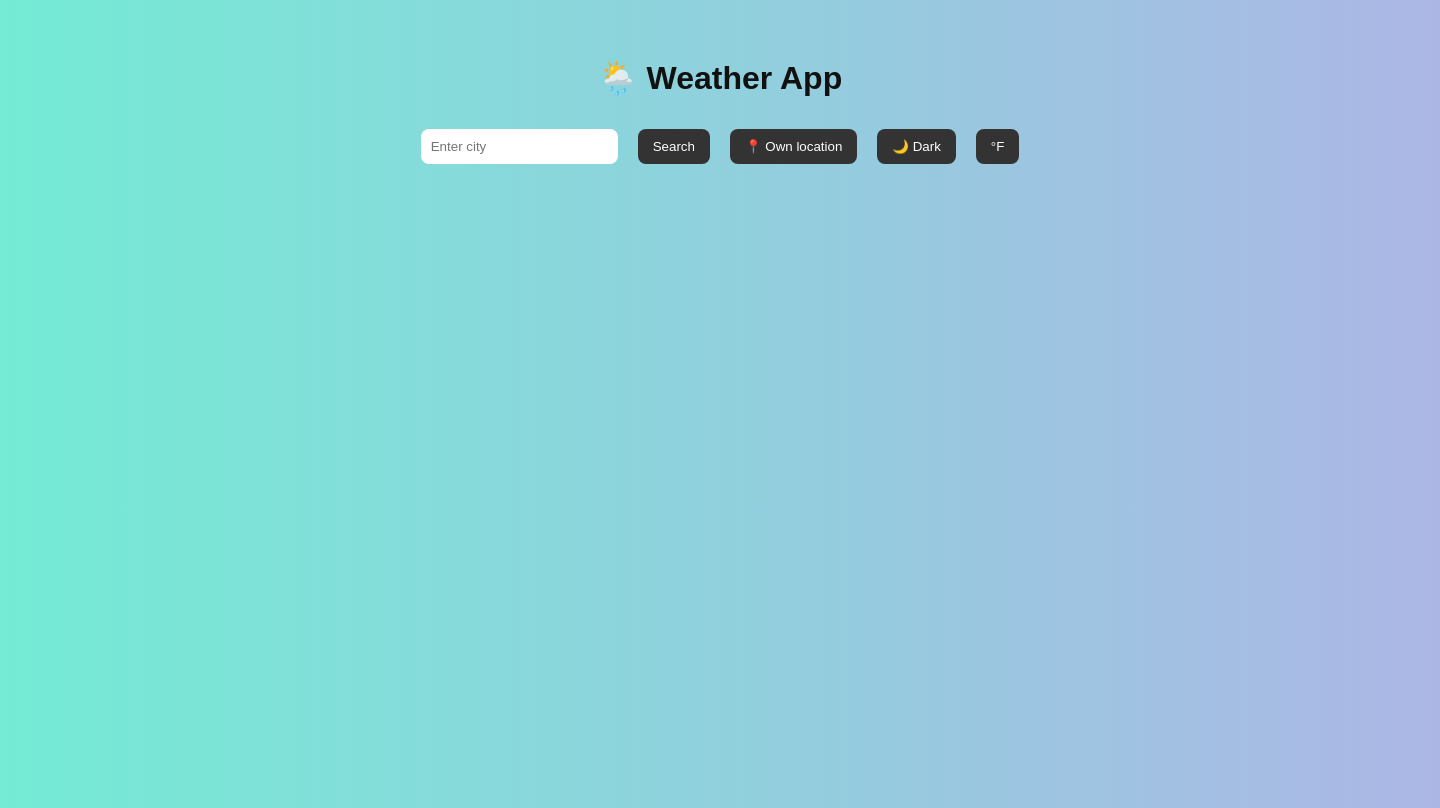
Test: Weather › toggles between Celsius and Fahrenheit without an extra fetch
Type "Helsinki" into the field with placeholder "Enter city" at [519, 146], box 421,129 -> 618,164
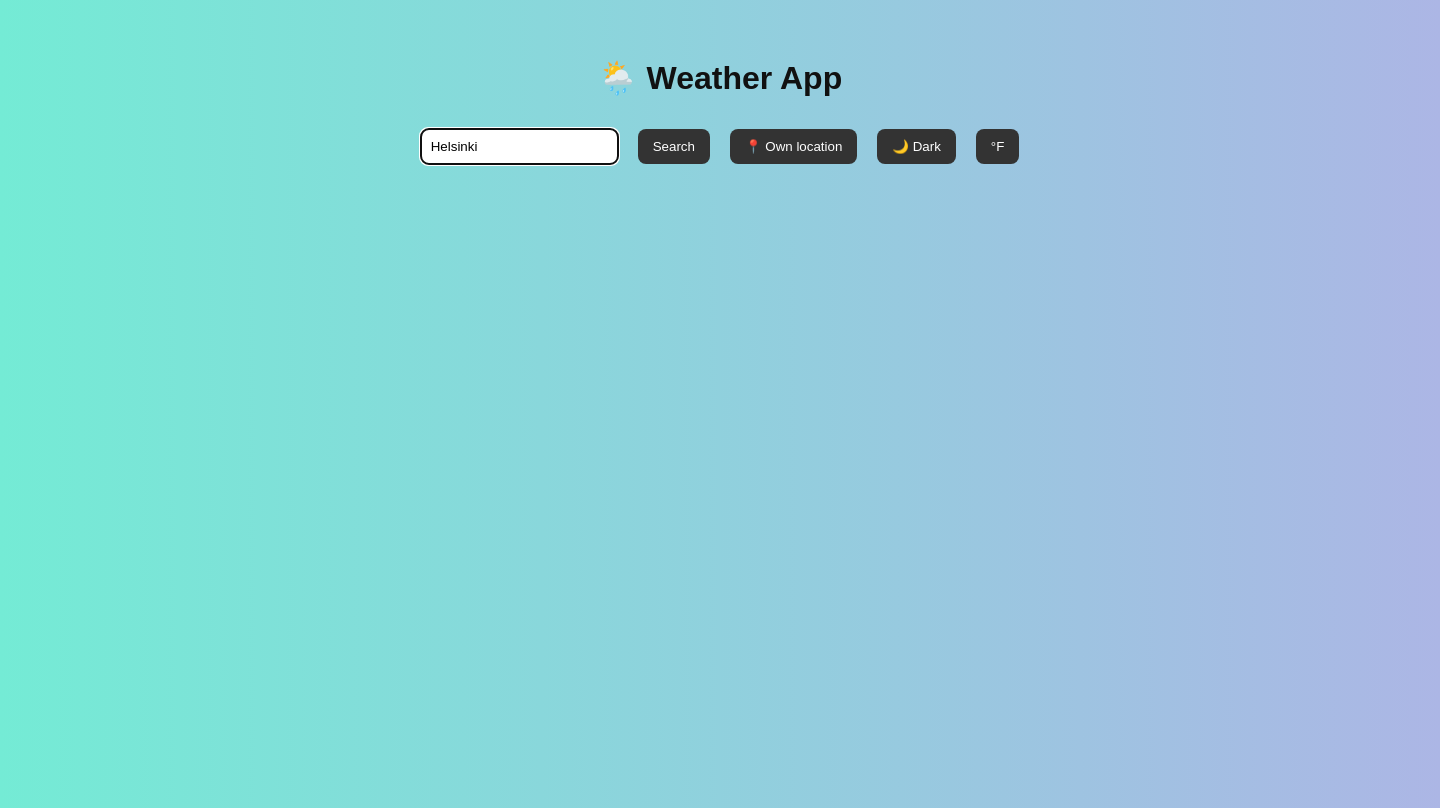
Click the button "Search" at [674, 146], box 638,129 -> 710,164
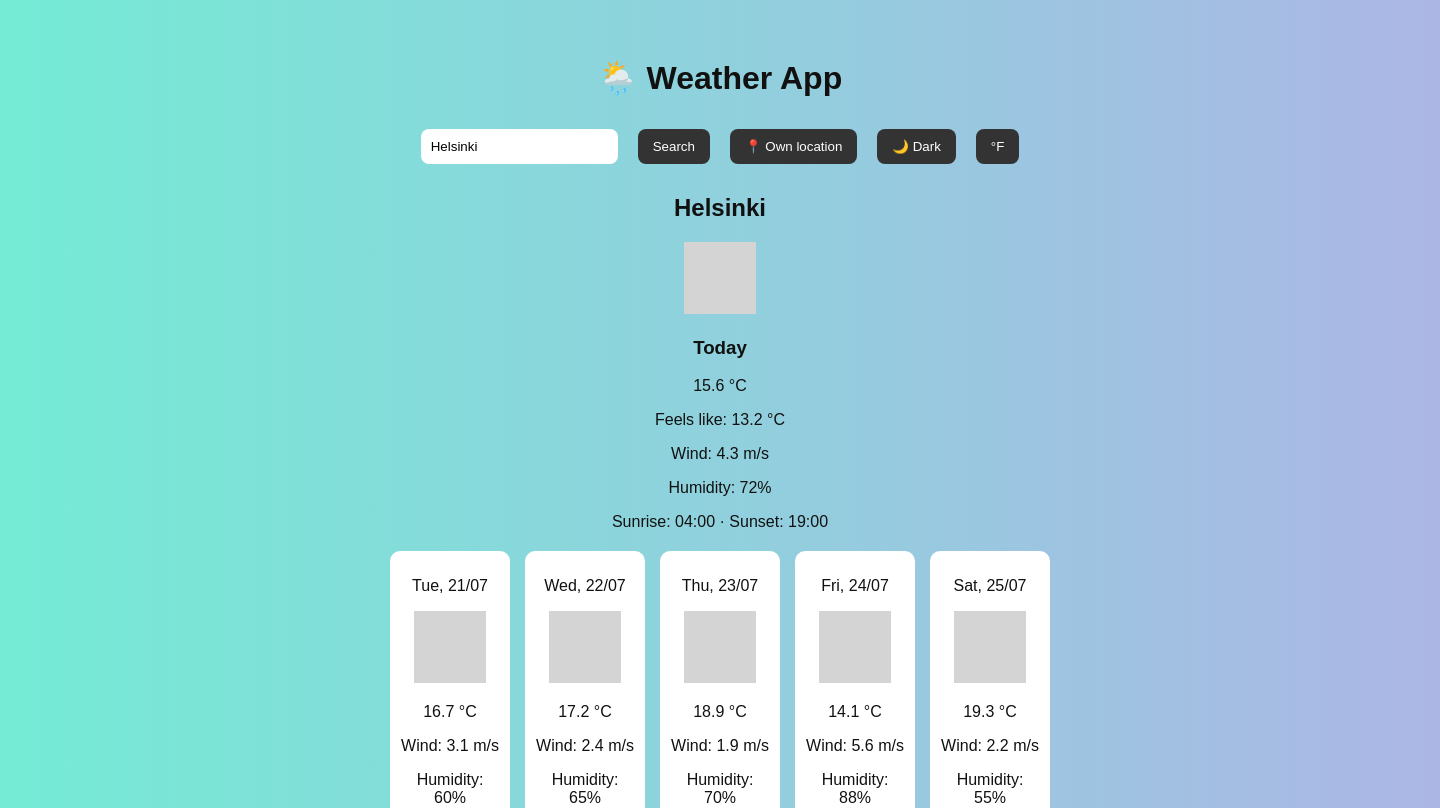
Expected: the text "15.6 °C" is shown, 693,377 -> 747,394
Click the button "°F" at [998, 146], box 976,129 -> 1019,164
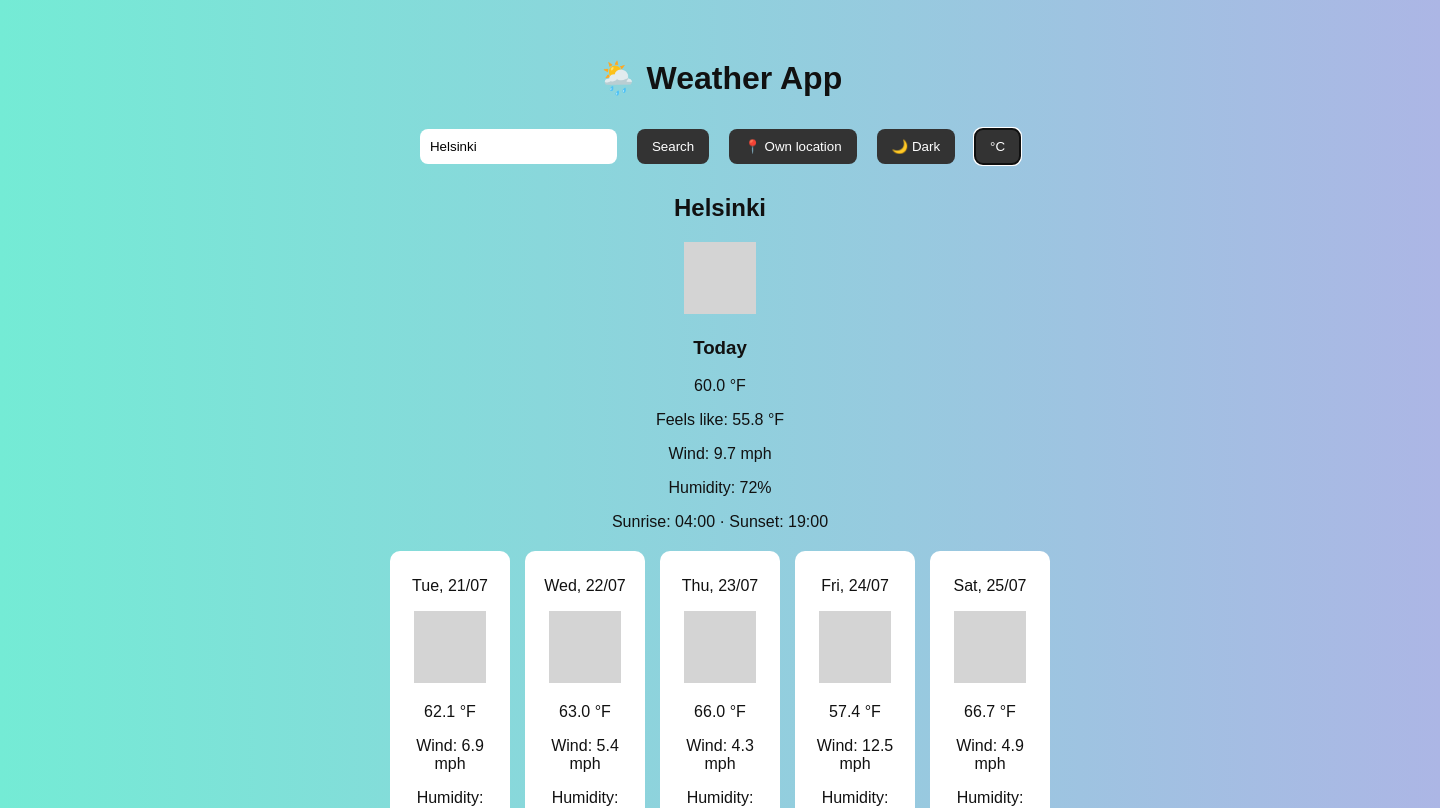
Expected: the text "60.0 °F" is shown, 694,377 -> 746,394
Expected: the text "Feels like: 55.8 °F" is shown, 656,411 -> 784,428
Expected: the text "Wind: 9.7 mph" is shown, 668,445 -> 772,462
Click the button "°C" at [998, 146], box 975,129 -> 1020,164
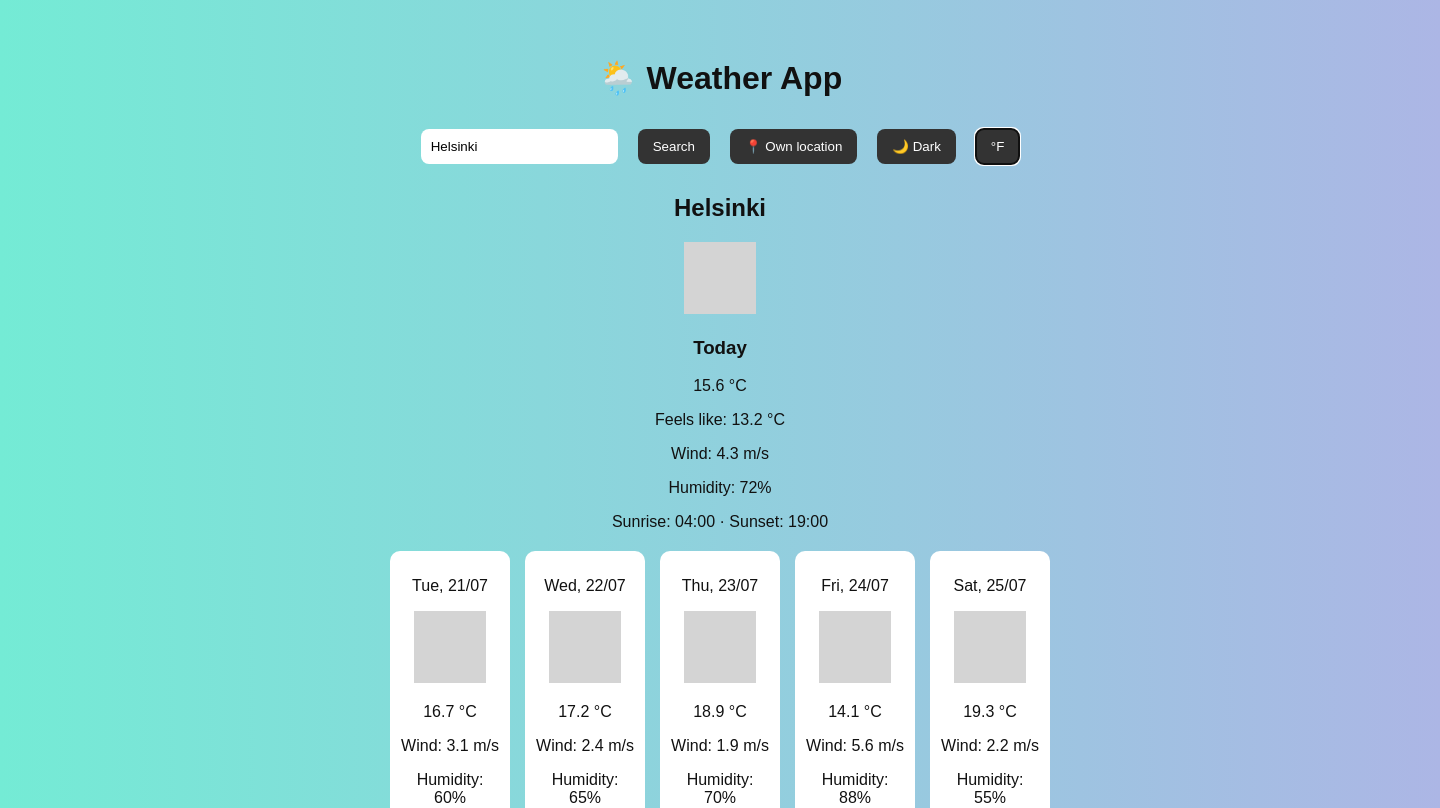
Expected: the text "15.6 °C" is shown, 693,377 -> 747,394
